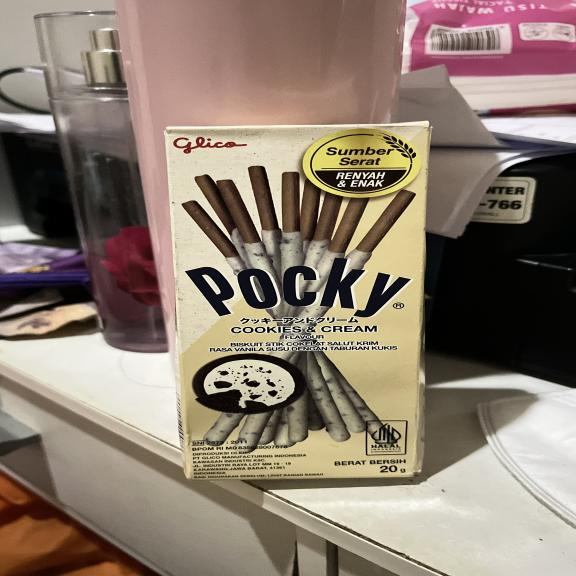Kertas: (168, 124, 427, 480)
